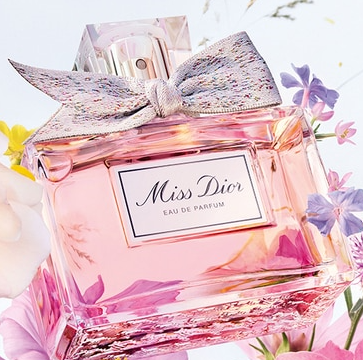dior_miss_dior: (6, 19, 356, 337)
